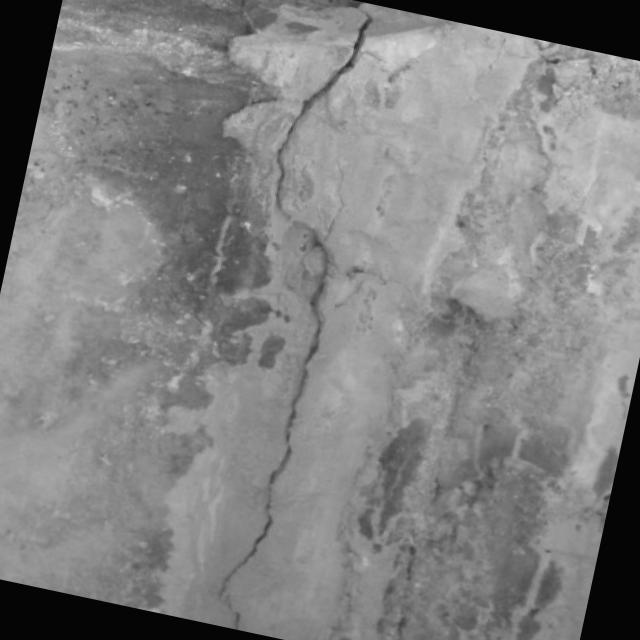crack: (176, 0, 391, 633)
